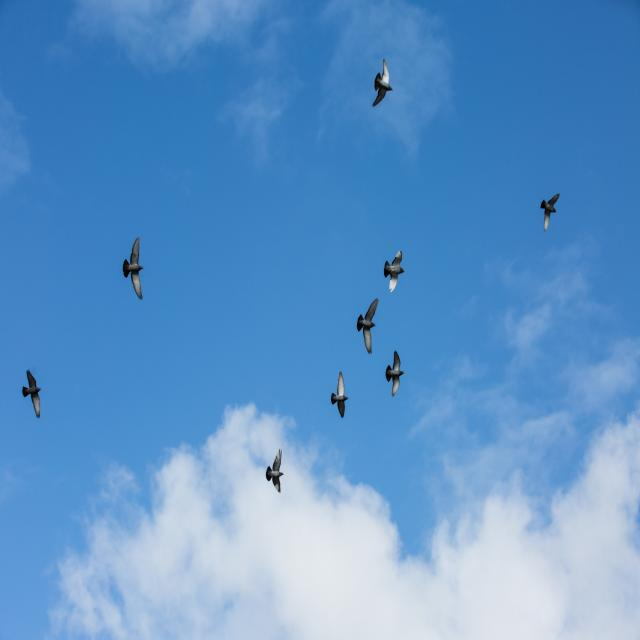bird: (122, 237, 145, 302), (355, 297, 379, 353), (371, 56, 394, 108), (384, 350, 407, 398), (22, 371, 44, 419), (384, 249, 407, 293), (539, 193, 563, 233), (330, 372, 350, 419), (266, 450, 286, 493)
